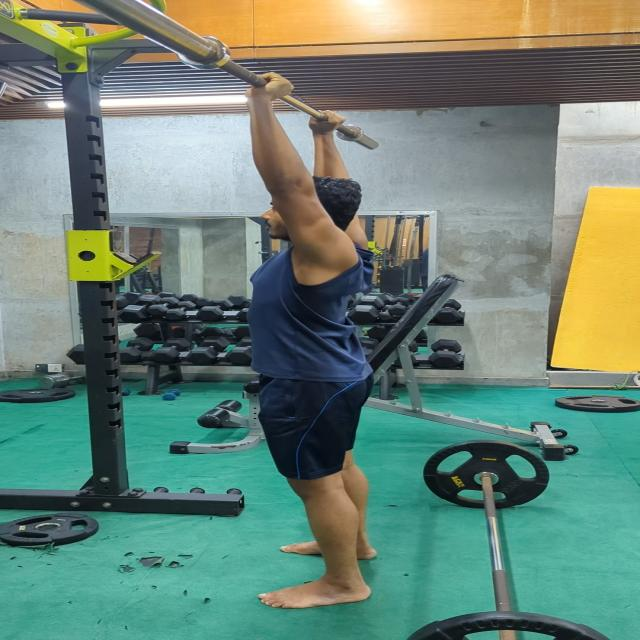Normal_OverheadPress: (213, 55, 394, 627)
